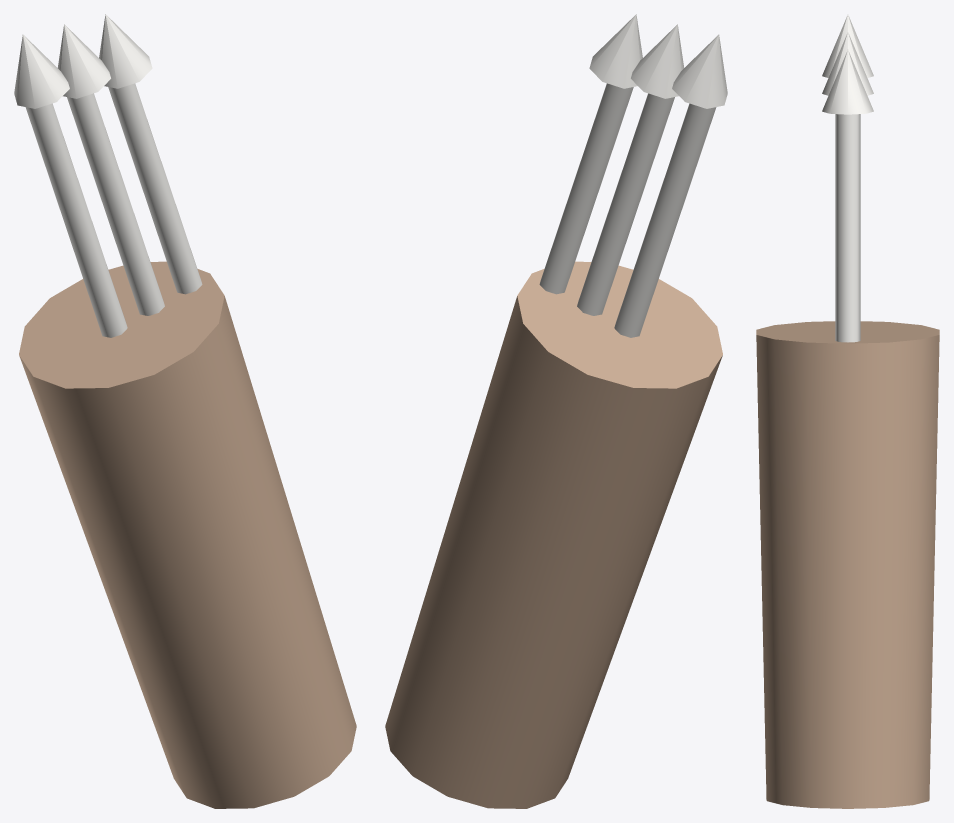
The model's file is adventure_quiver.glb.
The picture shows the model from 3 angles, left to right: view 1: azimuth 30°, elevation 25°; view 2: azimuth 150°, elevation 25°; view 3: azimuth 270°, elevation 25°; orthographic projection. The views are drawn at different scales.
Parts seen in each view (by area): view 1: Adventure Quiver; view 2: Adventure Quiver; view 3: Adventure Quiver.
Part boxes in pixels (box(x1,y1,x2,y2)): Adventure Quiver: box(14, 14, 356, 808); Adventure Quiver: box(385, 14, 727, 808); Adventure Quiver: box(756, 14, 939, 808).
Bounding box in the file's own units: 0.3161 × 0.7442 × 0.1755.
